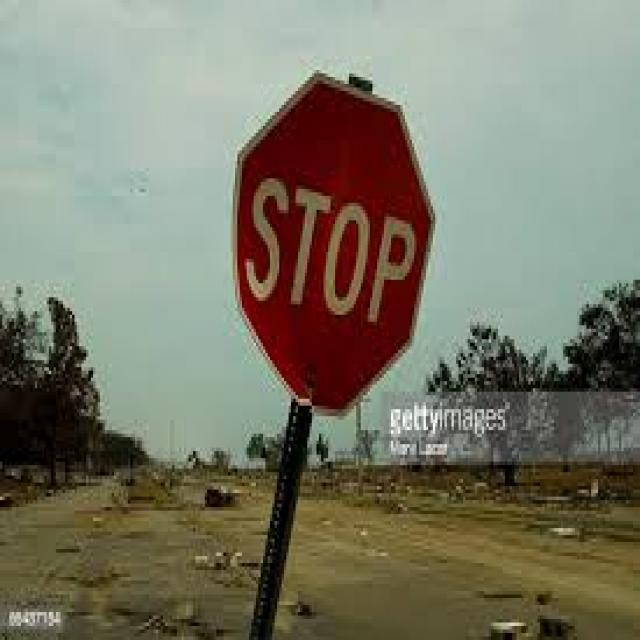stop-sign: (217, 72, 443, 410)
